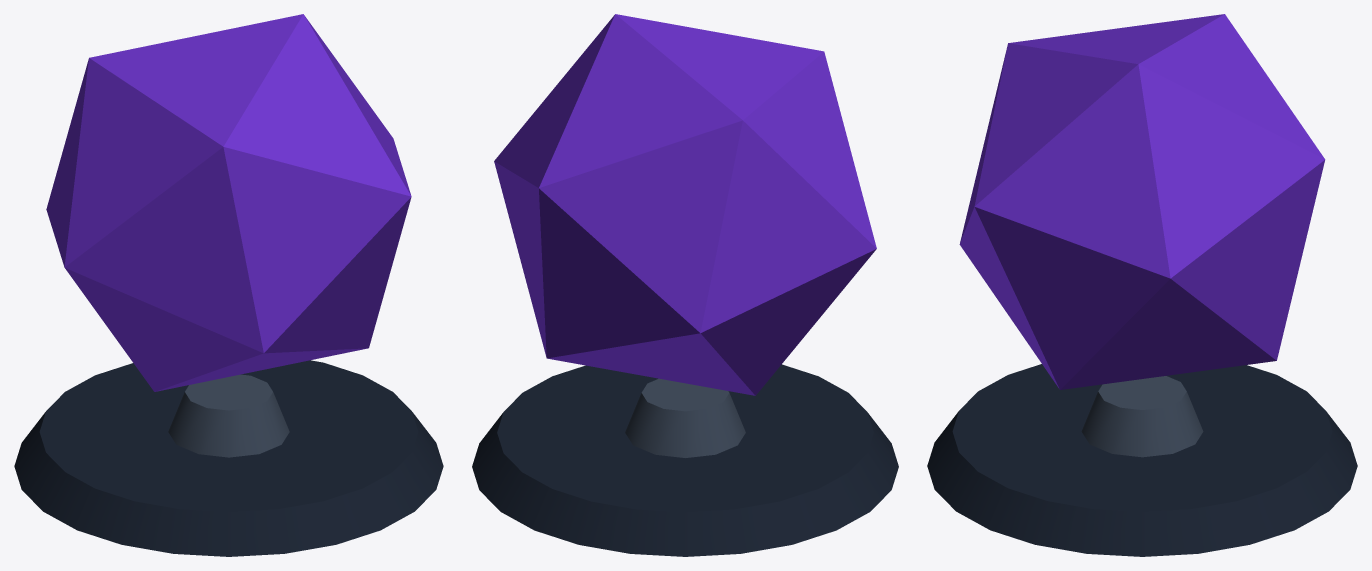
The model's file is dice.glb.
3 views of the same model, side by side, from view 1: azimuth 30°, elevation 25°; view 2: azimuth 150°, elevation 25°; view 3: azimuth 270°, elevation 25° (orthographic).
Parts seen in each view (by area): view 1: dice; view 2: dice; view 3: dice.
Boxes of the visible parts, bbox=[...] form: dice: bbox=[14, 14, 443, 556]; dice: bbox=[472, 14, 898, 556]; dice: bbox=[927, 14, 1357, 556].
Size of the model in its own units: 0.68 by 0.7621 by 0.68.
